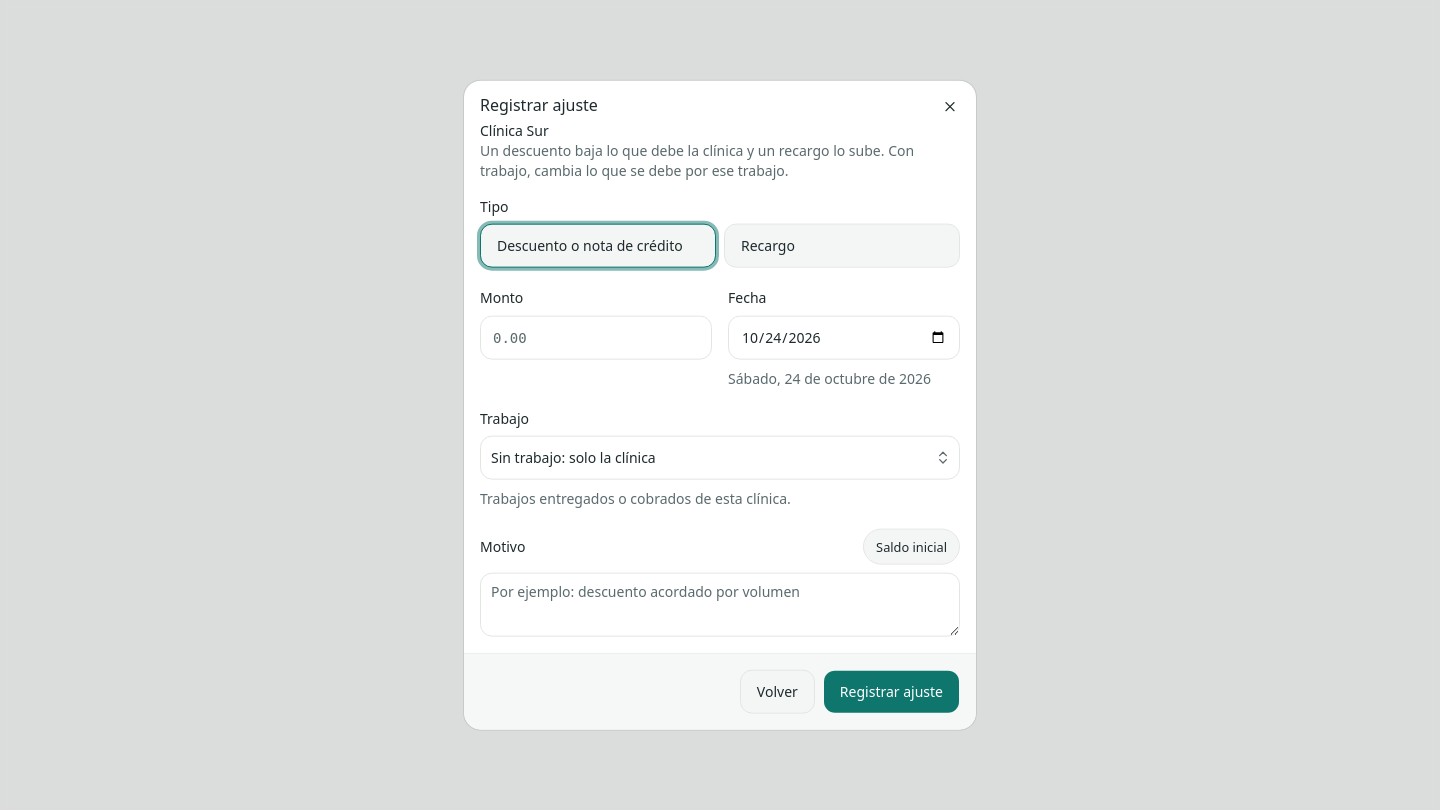
Test: AdjustmentDialog («Registrar ajuste», CTA-3) › pide elegir el tipo, el monto y el motivo
What coordinates should you click on to do the following:
click the button "Registrar ajuste"
I would click on:
 (891, 691)
Its box is top-left (823, 669), bottom-right (960, 713).
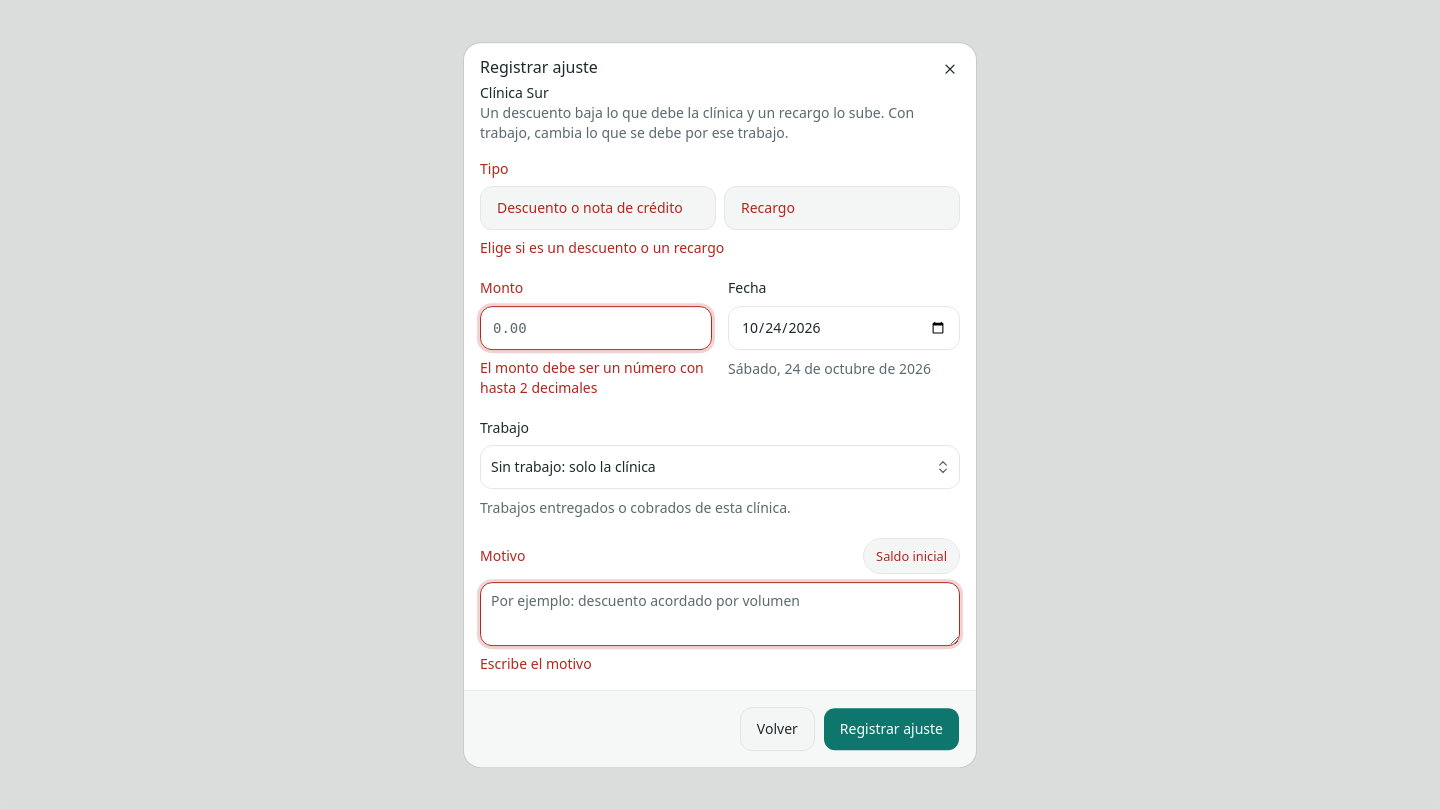
Expected: the text "Elige si es un descuento o un recargo" is shown, top-left (480, 238), bottom-right (724, 257)
Expected: the text "Escribe el motivo" is shown, top-left (480, 654), bottom-right (592, 673)
